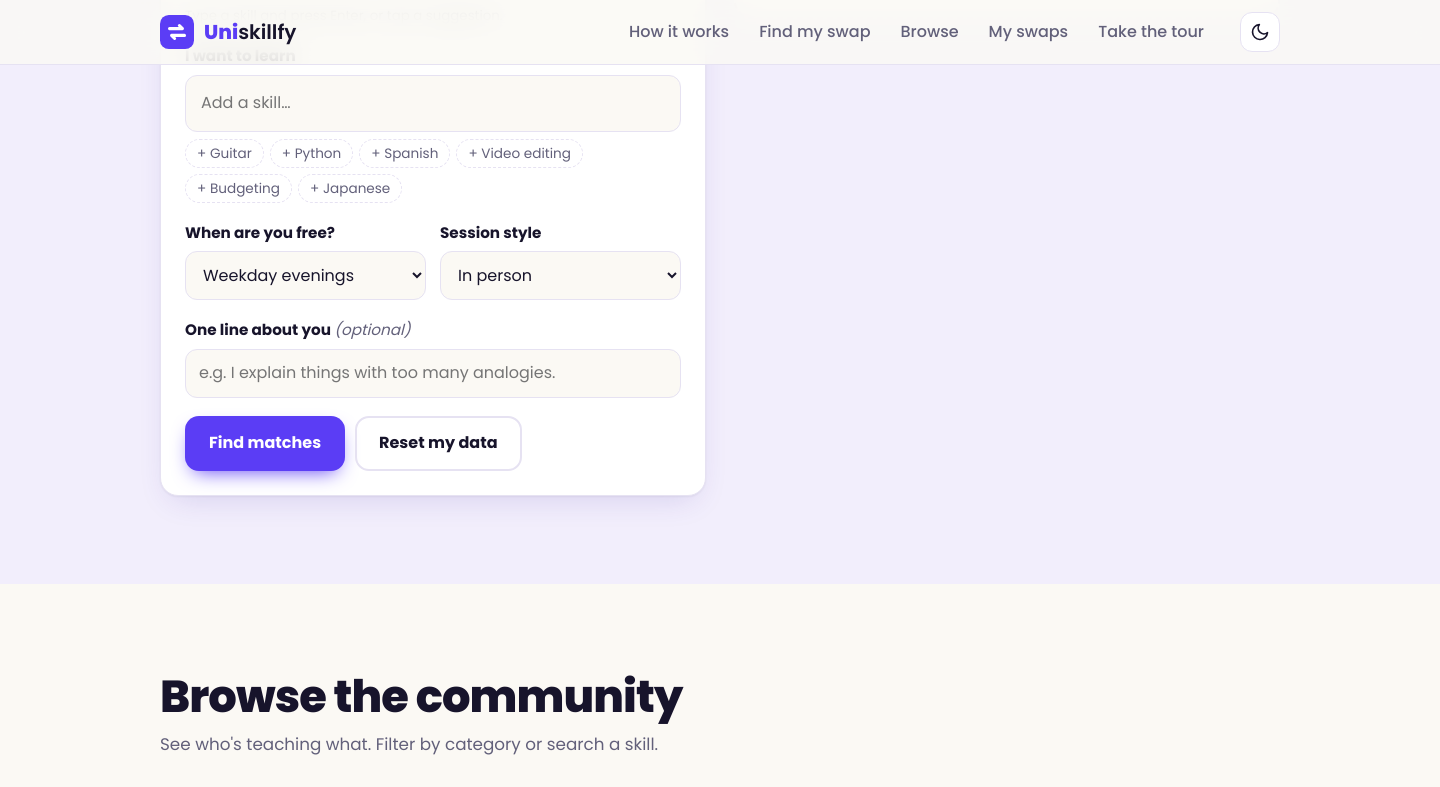
Test: app flow › validates the form
(page scrolled)
What coordinates should you click on to do the following:
click the button "Find matches"
I would click on:
 (265, 443)
Its box is [185, 416, 345, 471].
(page scrolled)
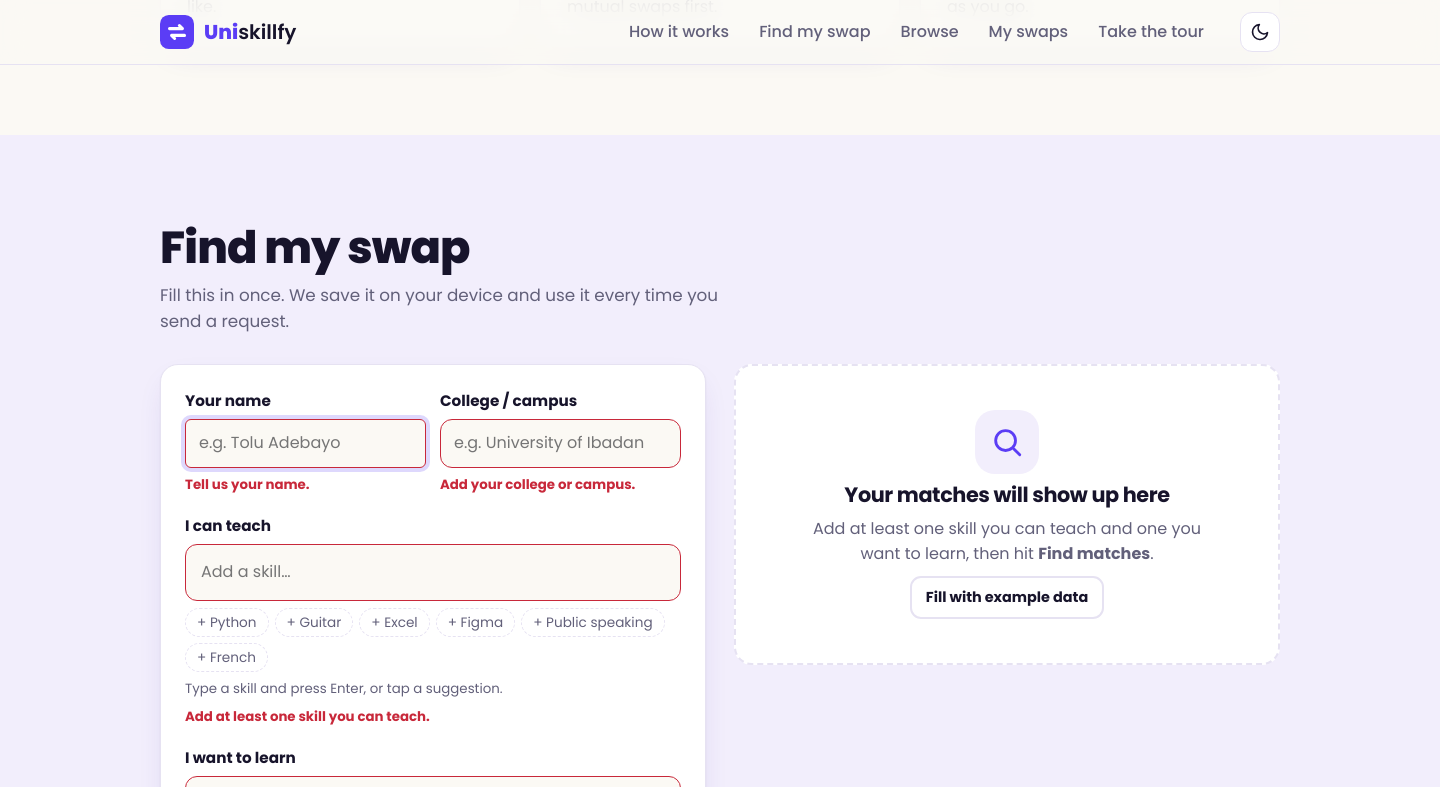
expect the text "Tell us your name." is shown: met, box [185, 475, 310, 494]
